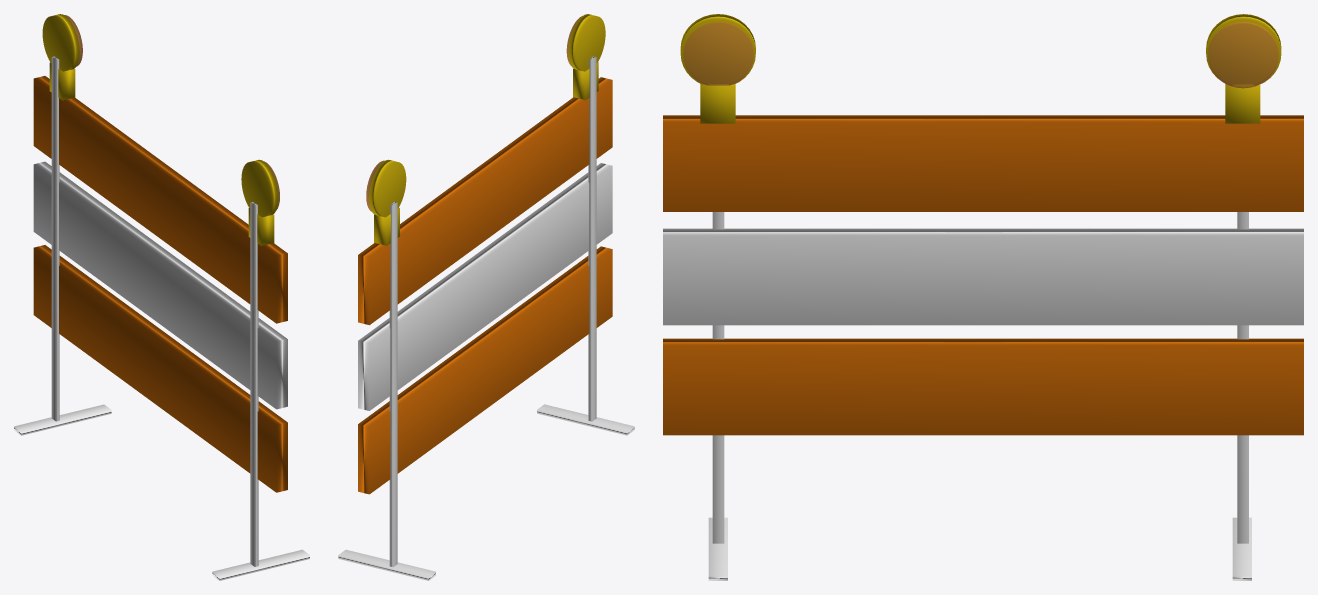
Rendered from roadblock.fbx.
3 views of the same model, side by side, from view 1: azimuth 30°, elevation 25°; view 2: azimuth 150°, elevation 25°; view 3: azimuth 270°, elevation 25° (orthographic). The views are drawn at different scales.
Visible parts, largest first — view 1: Cube.001, Cube, Cube.002, Cube.006, Cube.005, Cylinder.002, Cylinder.003, Cube.004, Cube.003, Cube.008, Cube.007; view 2: Cube.001, Cube, Cube.002, Cube.005, Cube.006, Cylinder.003, Cylinder.002, Cube.003, Cube.004, Cube.007, Cube.008; view 3: Cube.001, Cube, Cube.002, Cylinder.003, Cylinder.002, Cylinder.001, Cylinder, Cube.005, Cube.006, Cube.007, Cube.008, Cube.003 (+1 smaller).
Boxes of the visible parts, x1=… form: Cube.001: x1=33, y1=161, x2=287, y2=409; Cube: x1=33, y1=245, x2=287, y2=492; Cube.002: x1=33, y1=76, x2=287, y2=323; Cube.006: x1=51, y1=56, x2=59, y2=421; Cube.005: x1=250, y1=202, x2=258, y2=566; Cylinder.002: x1=42, y1=14, x2=79, y2=71; Cylinder.003: x1=241, y1=159, x2=278, y2=217; Cube.004: x1=14, y1=404, x2=111, y2=435; Cube.003: x1=212, y1=549, x2=309, y2=580; Cube.008: x1=49, y1=62, x2=75, y2=100; Cube.007: x1=248, y1=208, x2=274, y2=246; Cube.001: x1=358, y1=163, x2=612, y2=410; Cube: x1=358, y1=246, x2=612, y2=494; Cube.002: x1=358, y1=77, x2=612, y2=325; Cube.005: x1=588, y1=56, x2=596, y2=421; Cube.006: x1=389, y1=201, x2=397, y2=567; Cylinder.003: x1=568, y1=14, x2=605, y2=71; Cylinder.002: x1=369, y1=159, x2=406, y2=217; Cube.003: x1=537, y1=404, x2=634, y2=435; Cube.004: x1=338, y1=549, x2=435, y2=580; Cube.007: x1=573, y1=62, x2=598, y2=100; Cube.008: x1=374, y1=207, x2=399, y2=245; Cube.001: x1=663, y1=228, x2=1303, y2=325; Cube: x1=663, y1=338, x2=1303, y2=435; Cube.002: x1=663, y1=115, x2=1303, y2=211; Cylinder.003: x1=680, y1=14, x2=755, y2=84; Cylinder.002: x1=1206, y1=14, x2=1281, y2=83; Cylinder.001: x1=1208, y1=22, x2=1278, y2=88; Cylinder: x1=683, y1=22, x2=753, y2=85; Cube.005: x1=712, y1=212, x2=724, y2=543; Cube.006: x1=1237, y1=212, x2=1248, y2=543; Cube.007: x1=700, y1=84, x2=735, y2=123; Cube.008: x1=1225, y1=84, x2=1260, y2=123; Cube.003: x1=708, y1=517, x2=727, y2=580.
Size of the model in its own units: 18.54 by 79.61 by 86.49.
